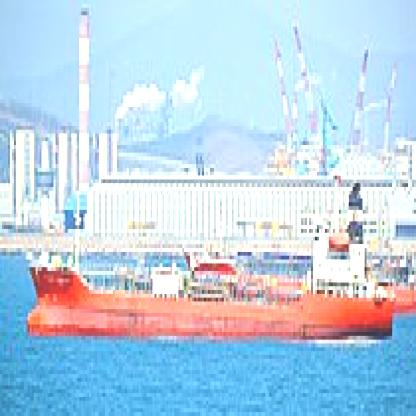Tanker: (18, 168, 398, 347)
